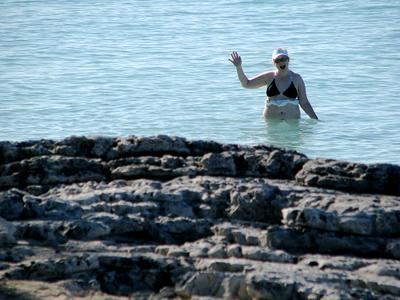person: (229, 50, 320, 121)
